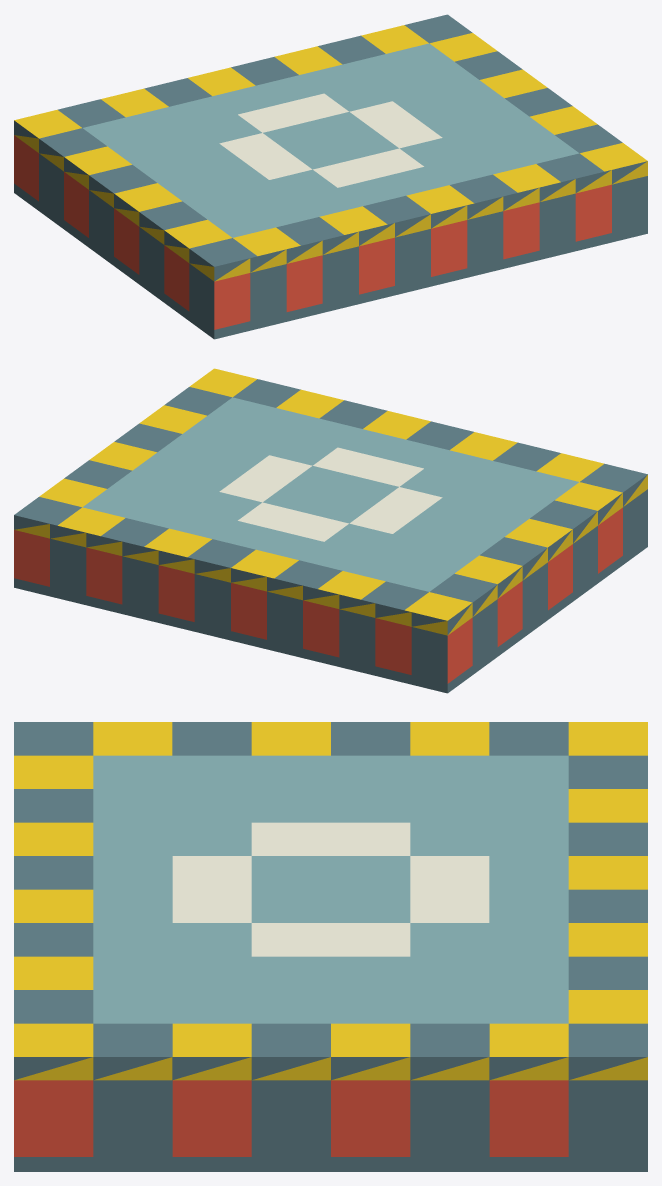
Rendered from deck.glb.
3 renders of one model, top to bottom at view 1: azimuth 30°, elevation 25°; view 2: azimuth 150°, elevation 25°; view 3: azimuth 270°, elevation 25°, orthographic. The views are drawn at different scales.
Parts seen in each view (by area): view 1: detail_Podium concrete, detail_Court teal, detail_Safety lemon, detail_Coral enamel, detail_Ivory paint; view 2: detail_Podium concrete, detail_Court teal, detail_Safety lemon, detail_Coral enamel, detail_Ivory paint; view 3: detail_Court teal, detail_Podium concrete, detail_Safety lemon, detail_Coral enamel, detail_Ivory paint.
Boxes of the visible parts, x1=… form: detail_Podium concrete: x1=14, y1=14, x2=647, y2=339; detail_Court teal: x1=83, y1=43, x2=578, y2=237; detail_Safety lemon: x1=14, y1=25, x2=647, y2=281; detail_Coral enamel: x1=14, y1=135, x2=611, y2=329; detail_Ivory paint: x1=219, y1=93, x2=442, y2=187; detail_Podium concrete: x1=14, y1=379, x2=647, y2=693; detail_Court teal: x1=83, y1=397, x2=578, y2=591; detail_Safety lemon: x1=14, y1=368, x2=647, y2=635; detail_Coral enamel: x1=14, y1=507, x2=622, y2=683; detail_Ivory paint: x1=219, y1=447, x2=442, y2=541; detail_Court teal: x1=93, y1=755, x2=568, y2=1023; detail_Podium concrete: x1=14, y1=722, x2=647, y2=1171; detail_Safety lemon: x1=14, y1=722, x2=647, y2=1080; detail_Coral enamel: x1=14, y1=1080, x2=568, y2=1156; detail_Ivory paint: x1=172, y1=822, x2=489, y2=956.
Size of the model in its own units: 20 by 3.2 by 16.
